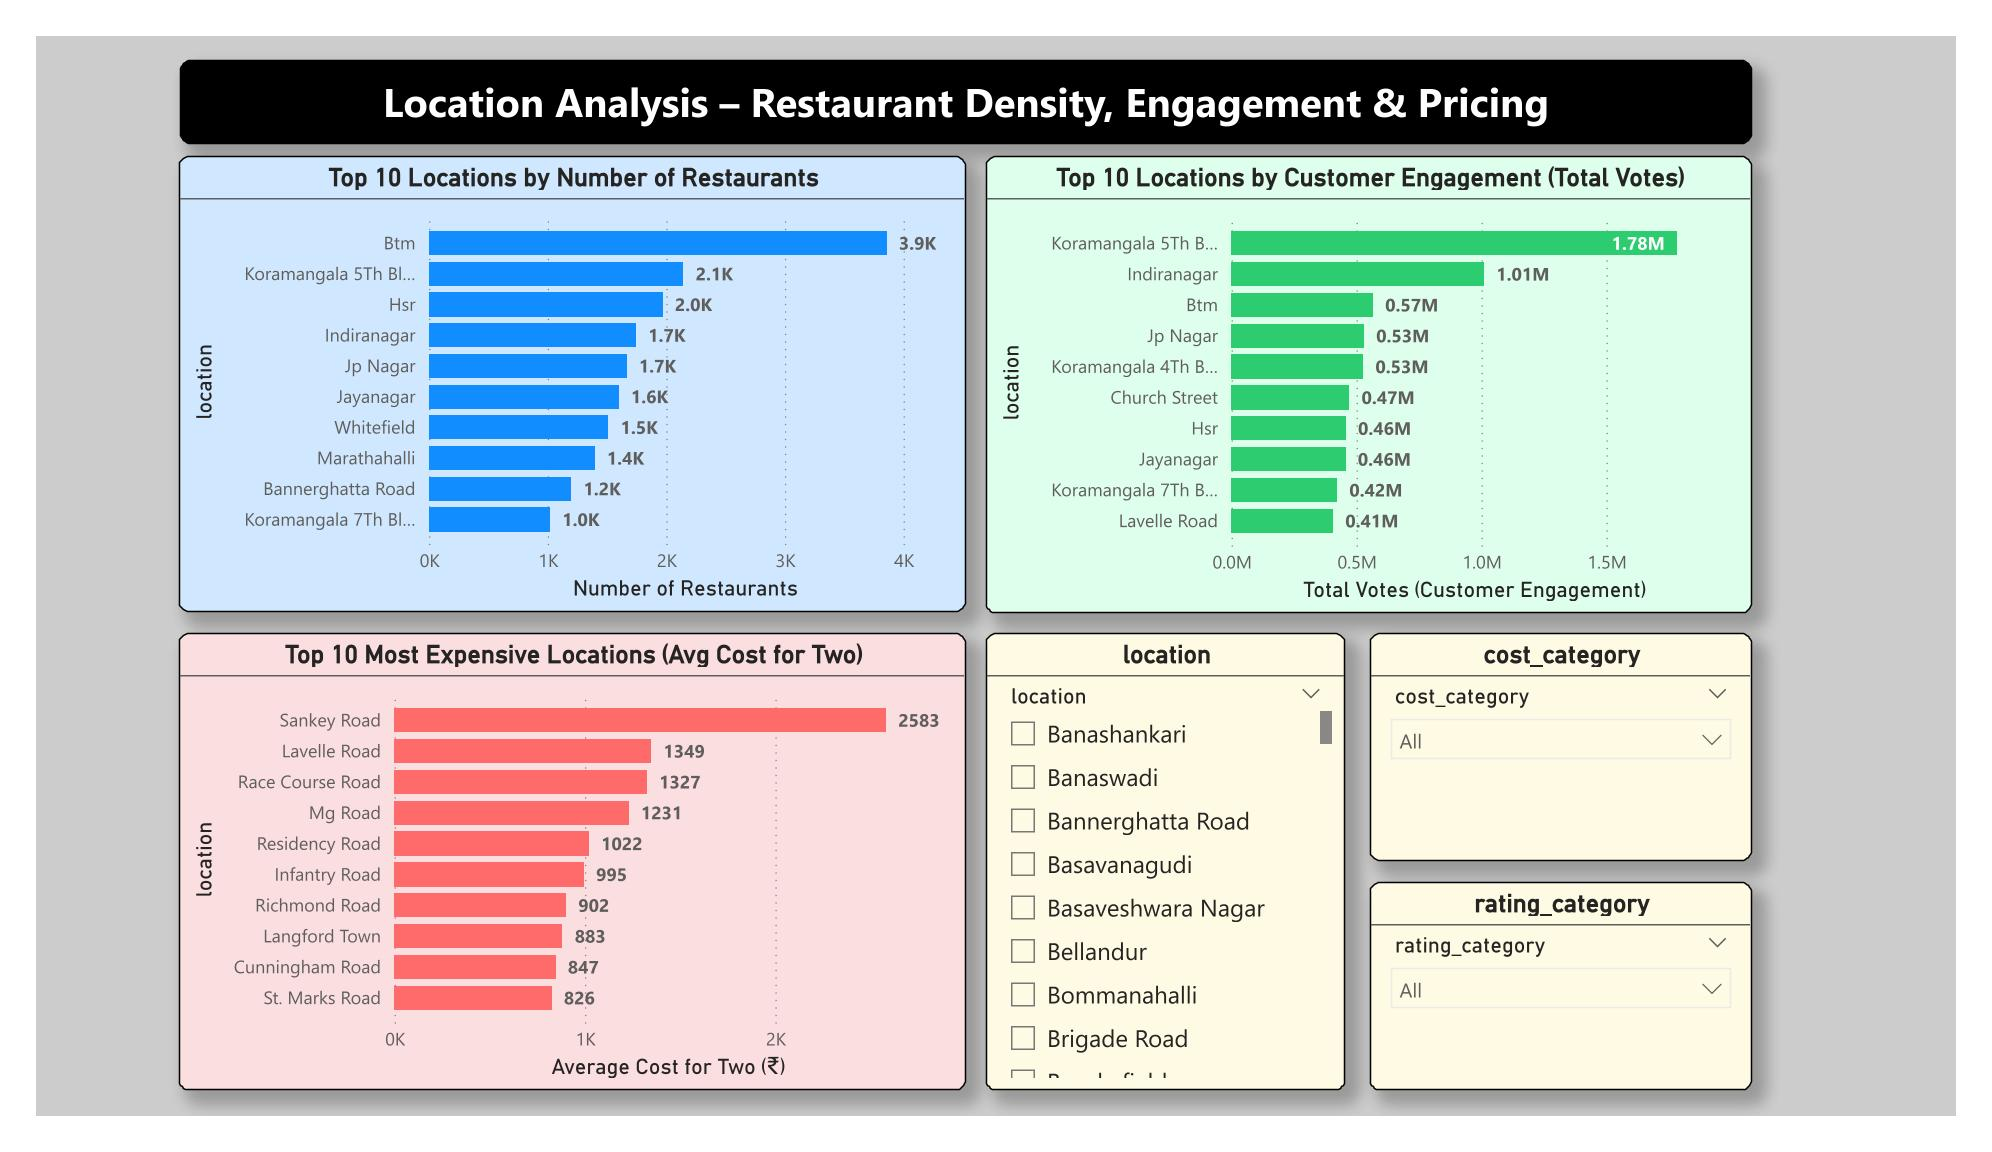

This screenshot's page, from the dashboard's own definition file:
{"tool":"powerbi","page":{"name":"Location Analysis","canvas":[1280,720],"ordinal":1},"visuals":[{"type":"textbox","box":[96,16,1048,56],"z":0},{"type":"clusteredBarChart","title":"Top 10 Locations by Number of Restaurants","fields":{"Category":["03_zomato_clean.location"],"Y":["CountNonNull(03_zomato_clean.name)"]},"box":[95.5,79.8,524.3,304.4],"z":1000},{"type":"clusteredBarChart","title":"Top 10 Locations by Customer Engagement (Total Votes)","fields":{"Category":["03_zomato_clean.location"],"Y":["Sum(03_zomato_clean.votes)"]},"box":[632.5,79.9,511.8,304.9],"z":2000},{"type":"clusteredBarChart","title":"Top 10 Most Expensive Locations (Avg Cost for Two)","fields":{"Category":["03_zomato_clean.location"],"Y":["Avg(03_zomato_clean.approx_cost(for two people))"]},"box":[95,397.9,524.9,304.9],"z":3000},{"type":"slicer","title":"location","fields":{"Values":["03_zomato_clean.location"]},"box":[632.5,397.8,240.3,304.9],"z":4000},{"type":"slicer","title":"cost_category","fields":{"Values":["03_zomato_clean.cost_category"]},"box":[888.9,397.8,255.4,152.4],"z":5000},{"type":"slicer","title":"rating_category","fields":{"Values":["03_zomato_clean.rating_category"]},"box":[888.9,564.4,255.4,138.3],"z":6000}]}

Visuals, with their boxes in screenshot pixels (x1, y1, x2, y2), scaled from the page's 1280x720 canvas onto the 1992x1152 screenshot:
textbox: {"x1": 149, "y1": 26, "x2": 1780, "y2": 115}
"Top 10 Locations by Number of Restaurants" clusteredBarChart: {"x1": 149, "y1": 128, "x2": 965, "y2": 615}
"Top 10 Locations by Customer Engagement (Total Votes)" clusteredBarChart: {"x1": 984, "y1": 128, "x2": 1781, "y2": 616}
"Top 10 Most Expensive Locations (Avg Cost for Two)" clusteredBarChart: {"x1": 148, "y1": 637, "x2": 965, "y2": 1124}
"location" slicer: {"x1": 984, "y1": 636, "x2": 1358, "y2": 1124}
"cost_category" slicer: {"x1": 1383, "y1": 636, "x2": 1781, "y2": 880}
"rating_category" slicer: {"x1": 1383, "y1": 903, "x2": 1781, "y2": 1124}
